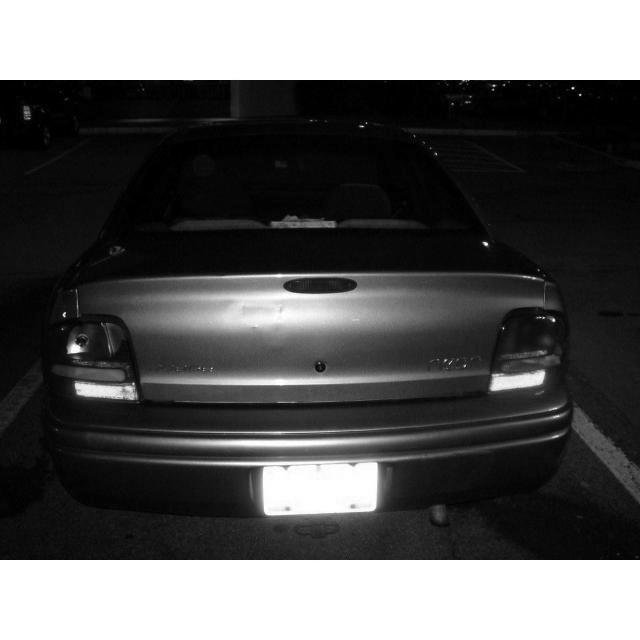boot-dent: (173, 279, 324, 369)
